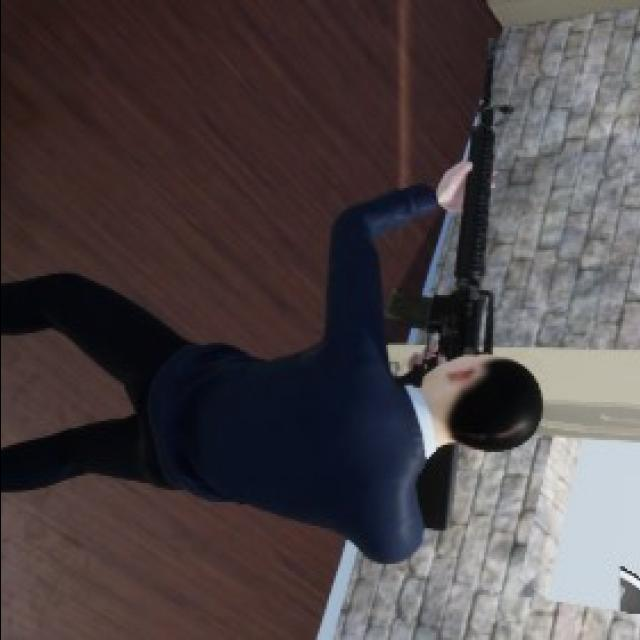rifle: (376, 40, 528, 373)
